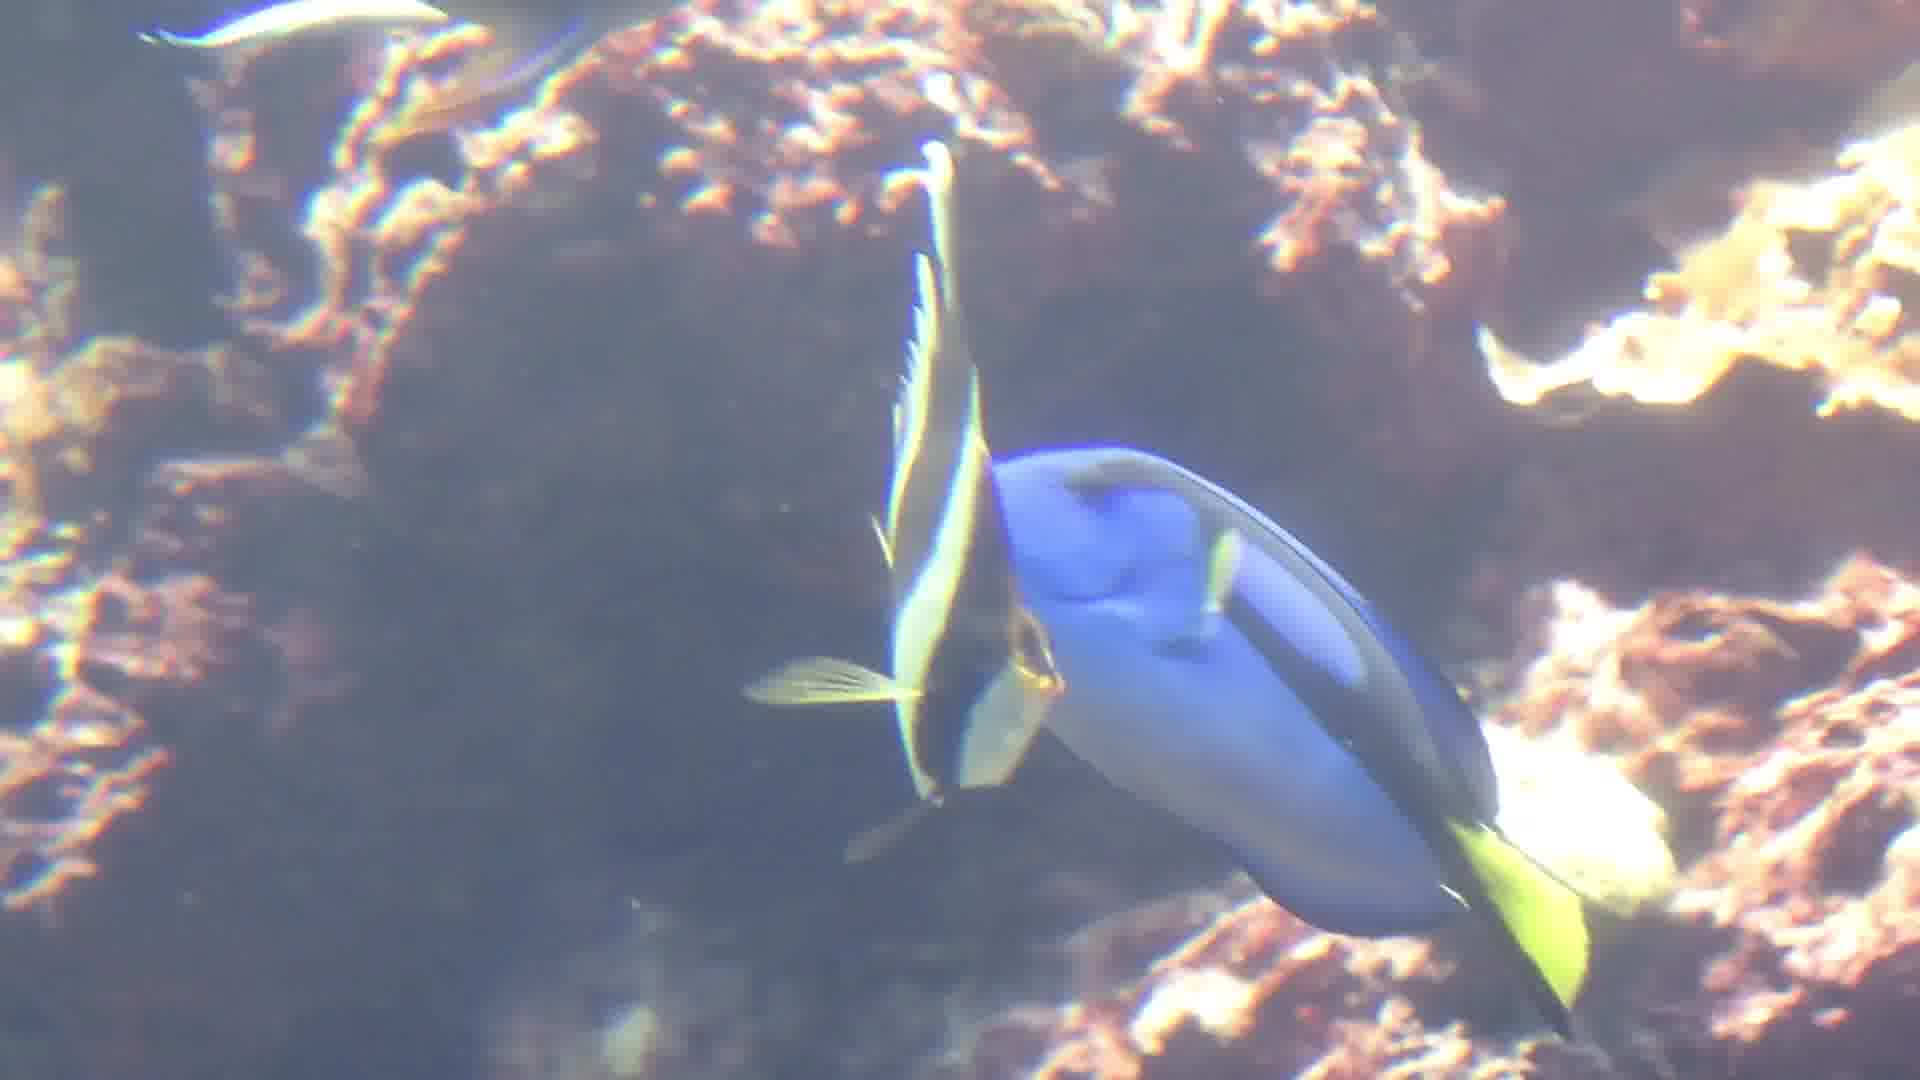Heniochus chrysostomus: (702, 113, 1100, 852)
